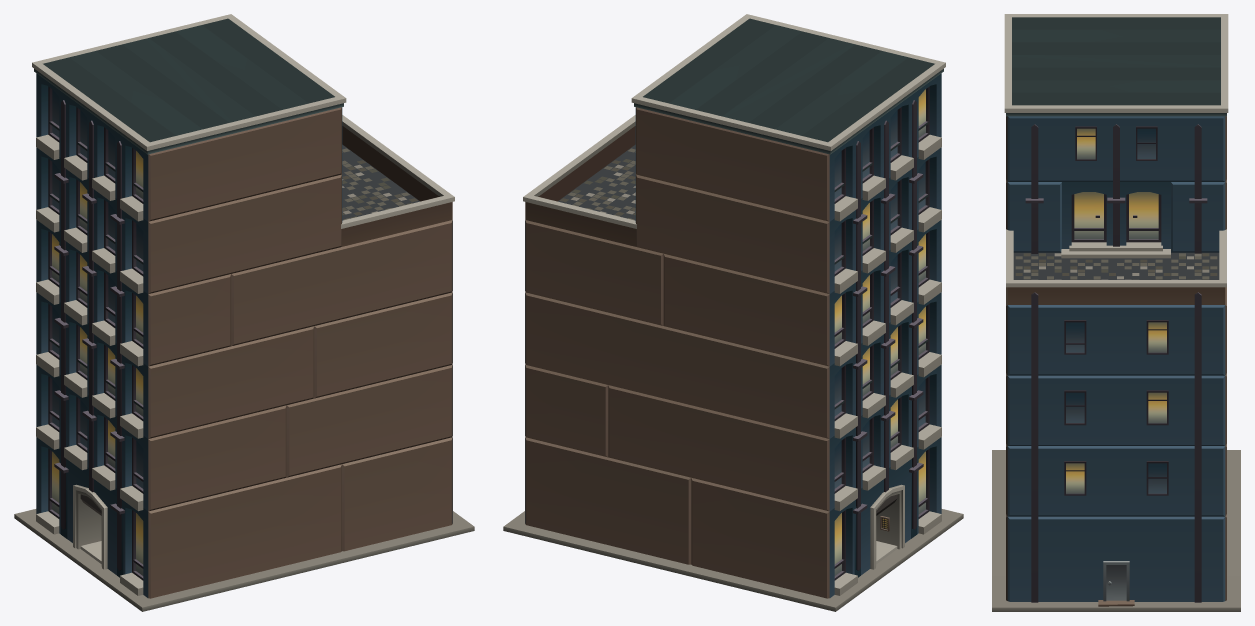
Rendered from Building_19B.fbx.
The picture shows the model from 3 angles, left to right: view 1: azimuth 30°, elevation 25°; view 2: azimuth 150°, elevation 25°; view 3: azimuth 270°, elevation 25°; orthographic projection. The views are drawn at different scales.
Parts seen in each view (by area): view 1: Building_19B, Window_Lights_19B; view 2: Building_19B, Window_Lights_19B; view 3: Building_19B, Window_Lights_19B.
Boxes of the visible parts, box(x1,y1,x2,y2) form: Building_19B: box(14, 14, 474, 611); Window_Lights_19B: box(52, 151, 143, 575); Building_19B: box(503, 14, 963, 611); Window_Lights_19B: box(834, 89, 925, 575); Building_19B: box(992, 14, 1240, 611); Window_Lights_19B: box(1066, 128, 1166, 493).
Size of the model in its own units: 2400 by 3160 by 1600.
